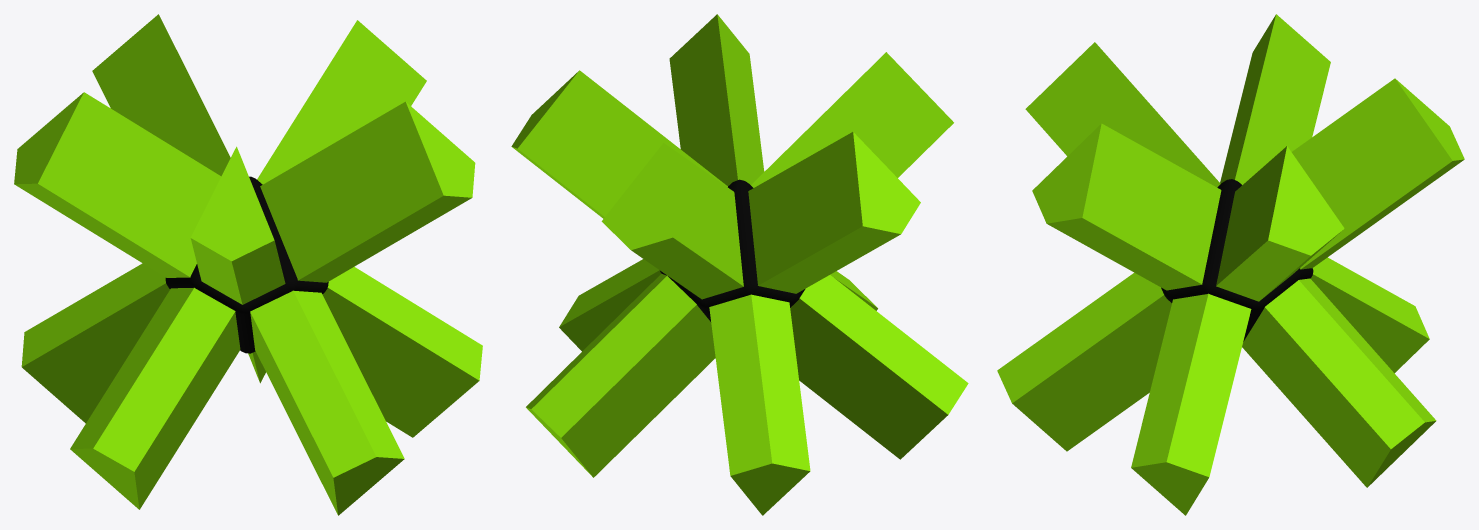
3 renders of one model, left to right at view 1: azimuth 30°, elevation 25°; view 2: azimuth 150°, elevation 25°; view 3: azimuth 270°, elevation 25°, orthographic. The views are drawn at different scales.
Parts seen in each view (by area): view 1: One, Three, Eight, Two, Six, Zero, Nine, Five, Seven, Dice; view 2: Four, Eight, Three, Zero, Five, Nine, One, Seven, Six, Dice; view 3: Four, One, Two, Six, Five, Nine, Three, Seven, Zero, Dice.
Boxes of the visible parts, x1=… form: One: x1=260, y1=101, x2=475, y2=282; Three: x1=14, y1=92, x2=221, y2=277; Eight: x1=70, y1=287, x2=240, y2=509; Two: x1=250, y1=290, x2=404, y2=515; Six: x1=322, y1=266, x2=482, y2=437; Zero: x1=21, y1=263, x2=169, y2=423; Nine: x1=257, y1=20, x2=426, y2=184; Five: x1=92, y1=14, x2=230, y2=176; Seven: x1=190, y1=146, x2=285, y2=304; Dice: x1=165, y1=176, x2=328, y2=353; Four: x1=526, y1=273, x2=715, y2=477; Eight: x1=790, y1=275, x2=968, y2=459; Three: x1=748, y1=132, x2=920, y2=293; Zero: x1=709, y1=294, x2=810, y2=515; Five: x1=601, y1=143, x2=743, y2=299; Nine: x1=511, y1=70, x2=727, y2=218; One: x1=669, y1=14, x2=764, y2=185; Seven: x1=751, y1=52, x2=953, y2=187; Six: x1=559, y1=259, x2=661, y2=351; Dice: x1=660, y1=179, x2=805, y2=321; Four: x1=1242, y1=278, x2=1436, y2=487; One: x1=1032, y1=123, x2=1221, y2=290; Two: x1=997, y1=272, x2=1171, y2=451; Six: x1=1131, y1=293, x2=1251, y2=515; Five: x1=1291, y1=78, x2=1464, y2=269; Nine: x1=1216, y1=146, x2=1344, y2=301; Three: x1=1220, y1=14, x2=1330, y2=184; Seven: x1=1025, y1=42, x2=1220, y2=187; Zero: x1=1310, y1=257, x2=1429, y2=373; Dice: x1=1161, y1=179, x2=1313, y2=341.
Bounding box in the file's own units: 29.25 × 26.44 × 30.41.
